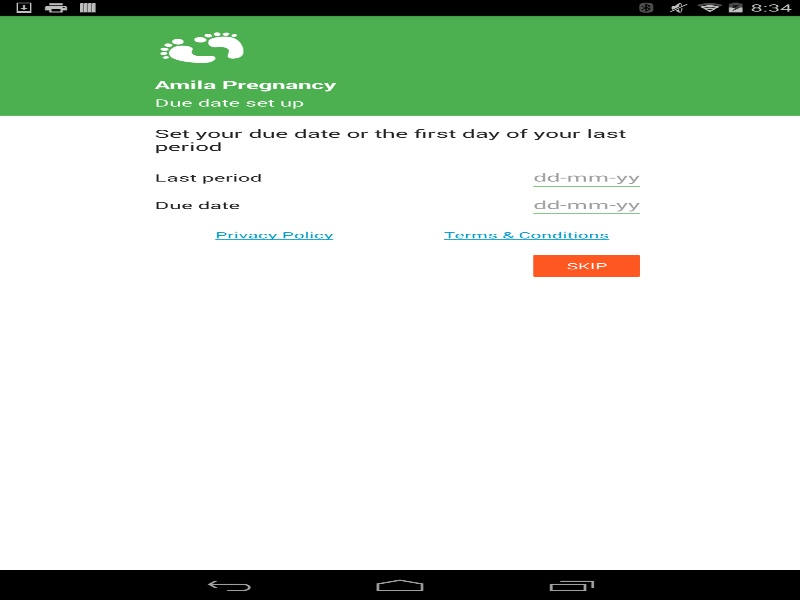Button: (528, 250, 645, 280)
Input: (528, 191, 645, 219), (528, 164, 645, 191)
